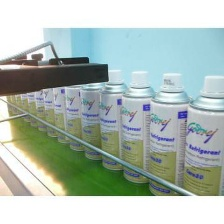aerosol_cans: (145, 69, 196, 199), (181, 71, 223, 210), (116, 65, 160, 187), (95, 64, 134, 175), (79, 68, 111, 162), (61, 68, 90, 153), (50, 64, 76, 147)
